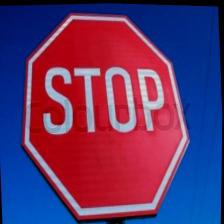Stop: (18, 4, 196, 224)
